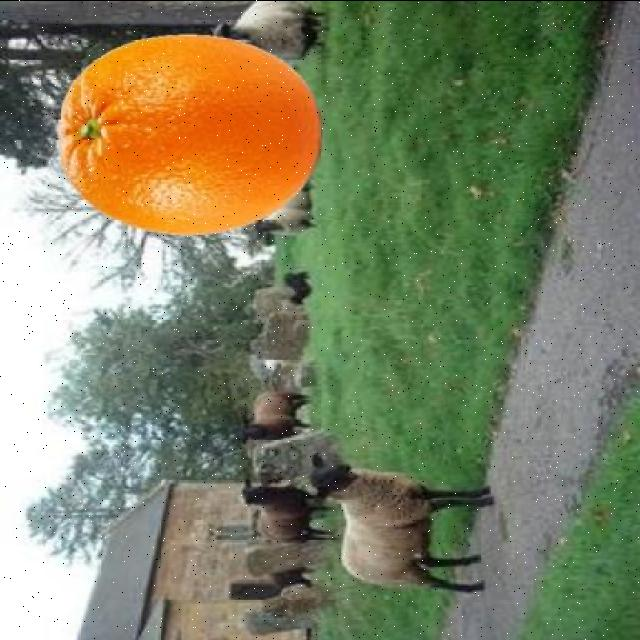Orange: (54, 32, 322, 236)
